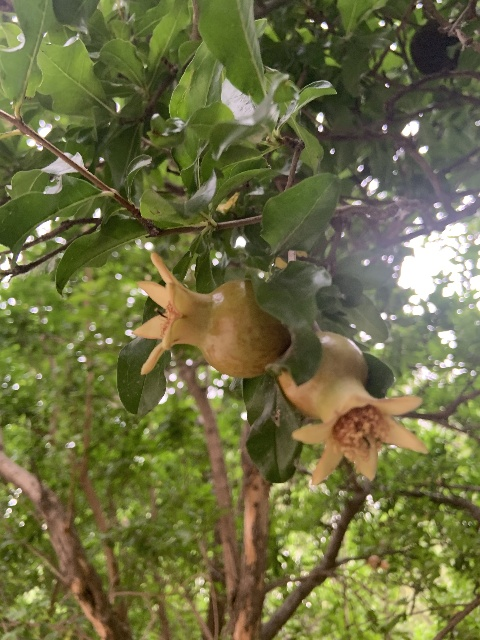early-fruit: (278, 330, 428, 487), (130, 252, 289, 378)
